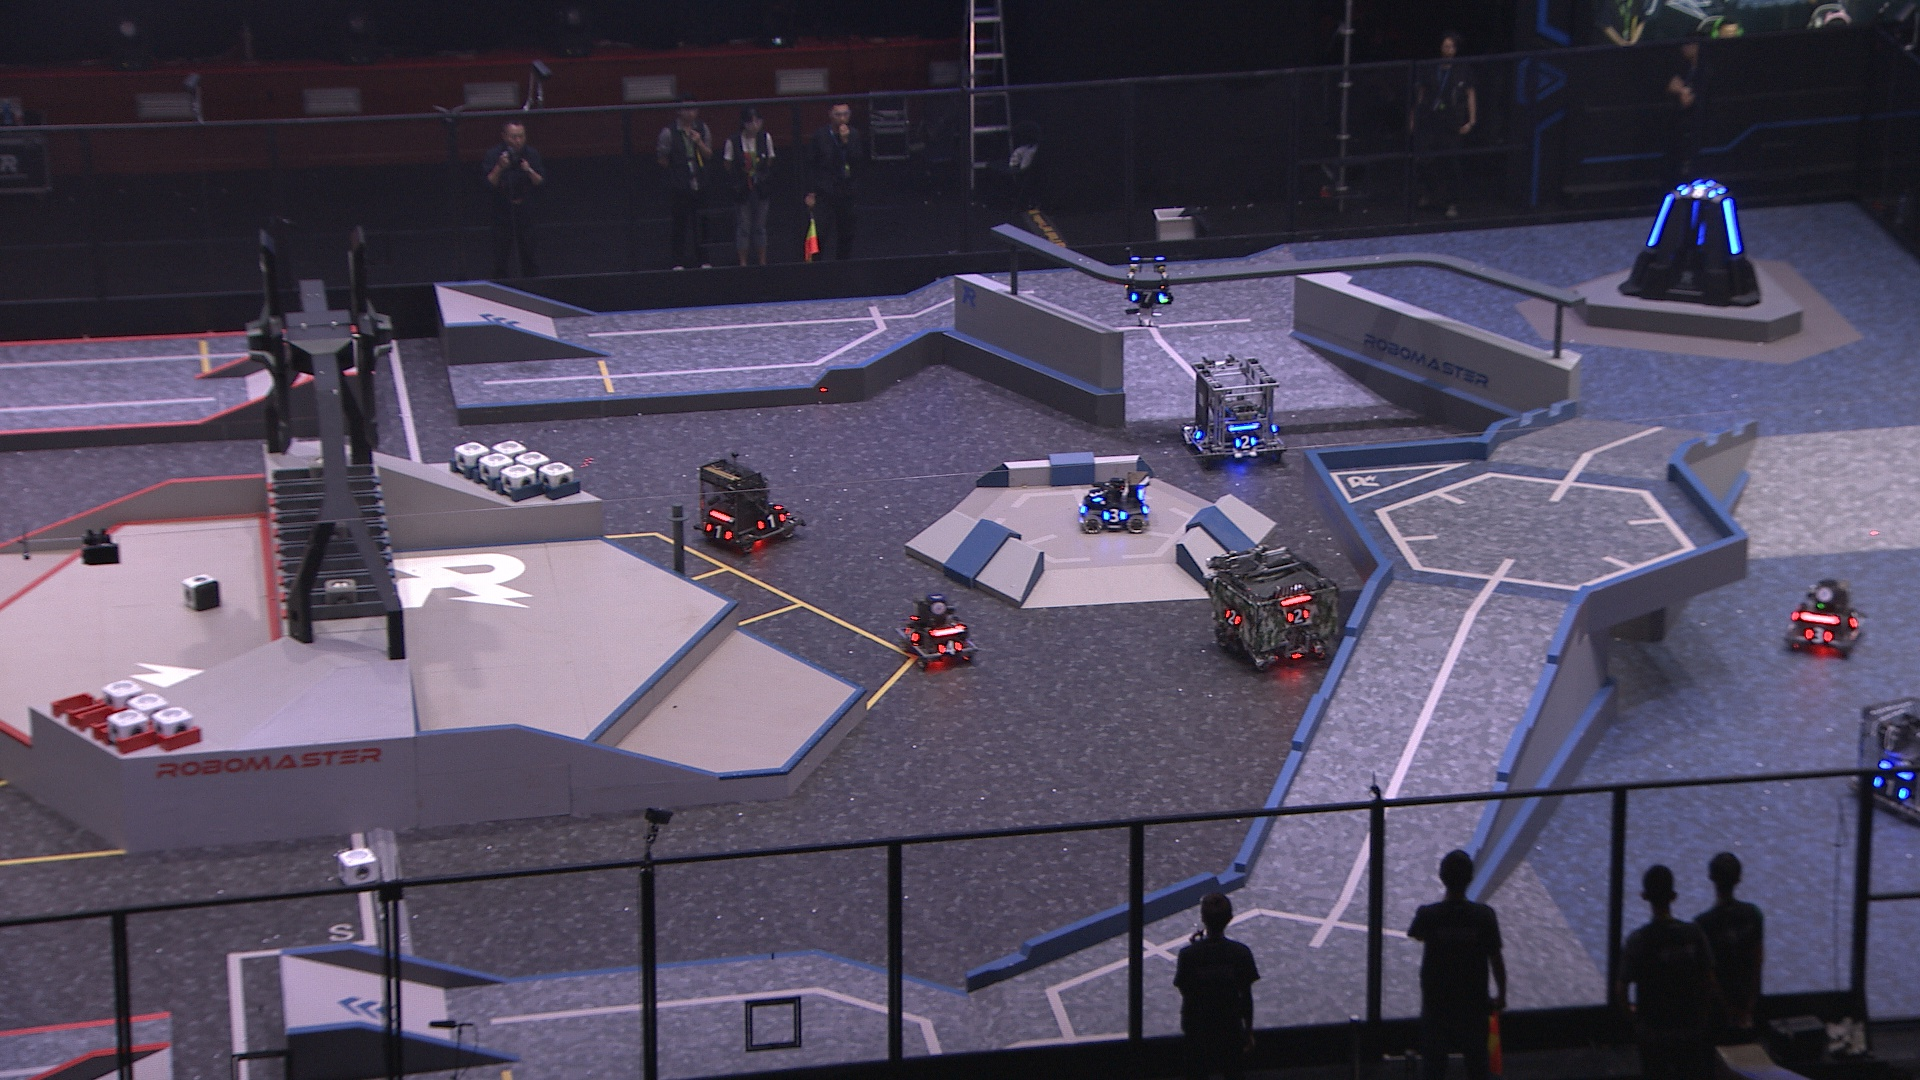armor: (1644, 193, 1675, 245), (1720, 196, 1741, 256), (1871, 775, 1911, 802), (1127, 287, 1167, 306), (1679, 185, 1716, 200), (756, 512, 785, 531), (1803, 626, 1836, 644), (705, 524, 732, 542), (1101, 506, 1127, 524), (1234, 434, 1259, 451), (1284, 607, 1311, 622), (901, 624, 918, 647), (1224, 608, 1242, 629), (938, 641, 961, 655), (1087, 487, 1106, 502), (1189, 423, 1205, 442), (1850, 611, 1863, 632)
base: (1617, 178, 1760, 306)
car: (1207, 543, 1338, 676), (1182, 353, 1288, 467), (694, 458, 807, 560), (1850, 700, 1920, 825), (1780, 575, 1865, 651), (897, 597, 975, 675), (1077, 477, 1153, 537)
watcher: (1124, 255, 1176, 315)
